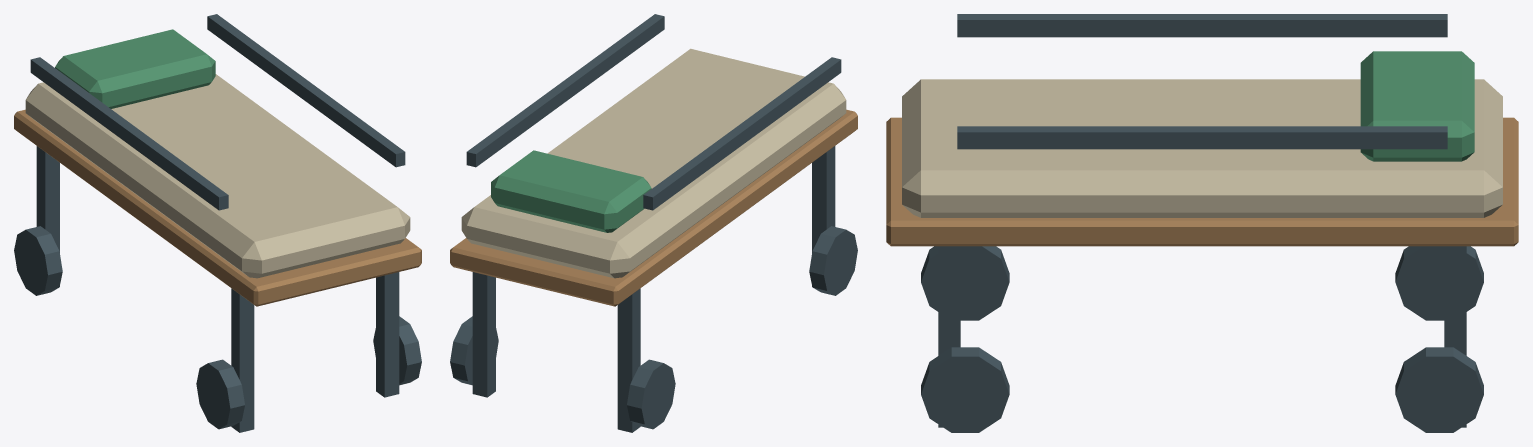
File: medical_bed.glb
The picture shows the model from 3 angles, left to right: view 1: azimuth 30°, elevation 25°; view 2: azimuth 150°, elevation 25°; view 3: azimuth 270°, elevation 25°; orthographic projection. The views are drawn at different scales.
Visible parts, largest first — view 1: medical_bed; view 2: medical_bed; view 3: medical_bed.
Part boxes in pixels (x1,y1,x2,y2): medical_bed: [14, 14, 421, 432]; medical_bed: [450, 14, 857, 432]; medical_bed: [886, 14, 1518, 432].
Size of the model in its own units: 0.91 by 1.06 by 2.
